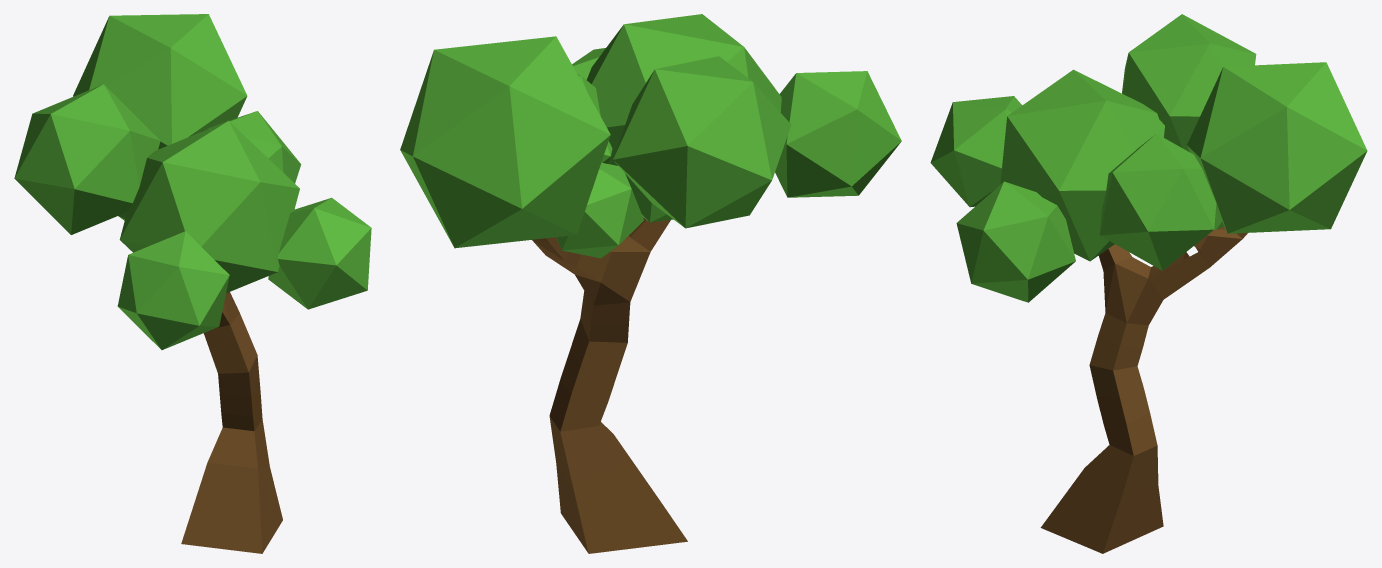
Rendered from arbre.glb.
3 renders of one model, left to right at view 1: azimuth 30°, elevation 25°; view 2: azimuth 150°, elevation 25°; view 3: azimuth 270°, elevation 25°, orthographic. The views are drawn at different scales.
Visible parts, largest first — view 1: Icosphere.006, Icosphere.003, Icosphere.001, tronc, Icosphere.005, Icosphere.004, Icosphere; view 2: Icosphere.003, tronc, Icosphere.001, Icosphere.005, Icosphere.006, Icosphere.002; view 3: Icosphere.003, tronc, Icosphere.006, Icosphere, Icosphere.004, Icosphere.001, Icosphere.005.
Part boxes in pixels (x1,y1,x2,y2): Icosphere.006: (119, 121, 299, 293); Icosphere.003: (73, 14, 247, 149); Icosphere.001: (14, 84, 160, 234); tronc: (181, 292, 282, 553); Icosphere.005: (117, 231, 229, 349); Icosphere.004: (268, 197, 371, 309); Icosphere: (201, 111, 301, 183); Icosphere.003: (400, 36, 610, 248); tronc: (532, 217, 687, 553); Icosphere.001: (613, 56, 791, 228); Icosphere.005: (775, 71, 901, 197); Icosphere.006: (587, 14, 781, 222); Icosphere.002: (556, 162, 643, 258); Icosphere.003: (1187, 62, 1367, 233); tronc: (1040, 226, 1247, 553); Icosphere.006: (1000, 69, 1164, 261); Icosphere: (1099, 133, 1216, 270); Icosphere.004: (956, 181, 1075, 302); Icosphere.001: (1122, 14, 1256, 152); Icosphere.005: (930, 96, 1022, 207).
Bounding box in the file's own units: 6.14 × 9.78 × 8.42.
